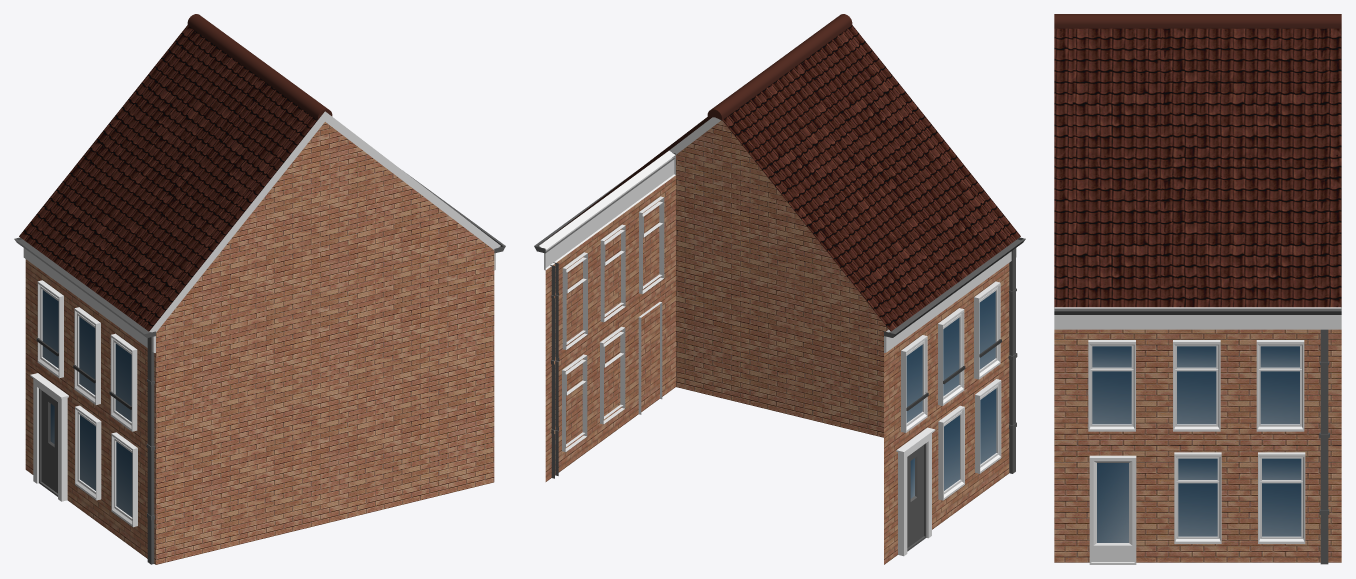
File: Buorkerij_43.fbx
3 renders of one model, left to right at view 1: azimuth 30°, elevation 25°; view 2: azimuth 150°, elevation 25°; view 3: azimuth 270°, elevation 25°, orthographic. The views are drawn at different scales.
Visible parts, largest first — view 1: Buorkerij_43; view 2: Buorkerij_43; view 3: Buorkerij_43.
Boxes of the visible parts, x1=… form: Buorkerij_43: x1=14, y1=14, x2=505, y2=564; Buorkerij_43: x1=534, y1=14, x2=1025, y2=564; Buorkerij_43: x1=1054, y1=14, x2=1341, y2=564.
Bounding box in the file's own units: 9.29 × 10.17 × 5.8.
